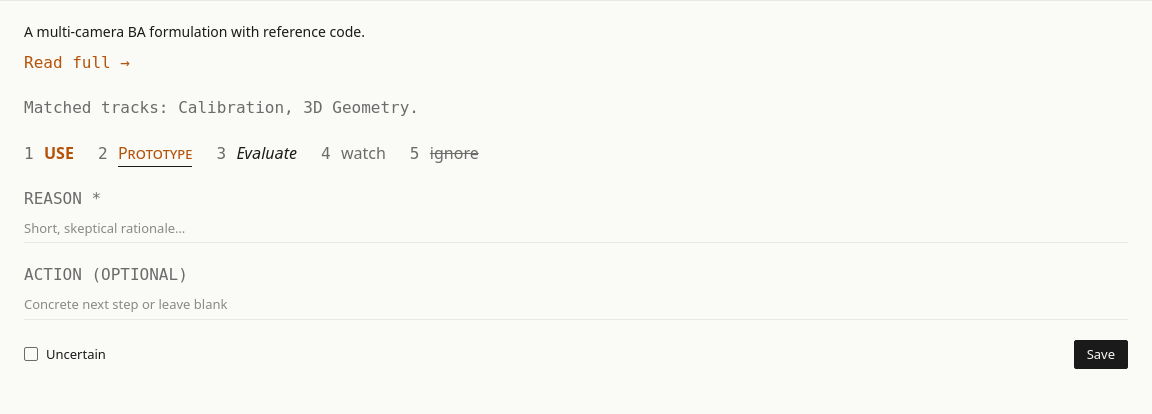
Scenario: CandidatePanel — plain candidate (date queue) › refuses to save without a reason and sends nothing
Click the button "Save": (1101, 354) [1074,340,1128,369]
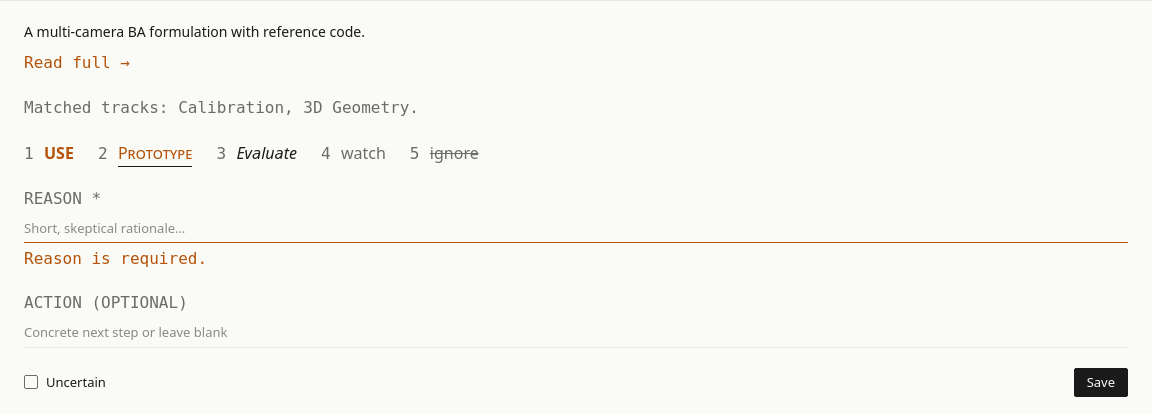
Result: the text "Reason is required." is shown at [24,249,207,268]
